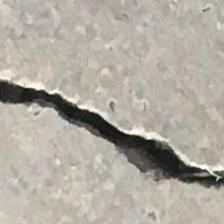Crack: (0, 69, 224, 197)
